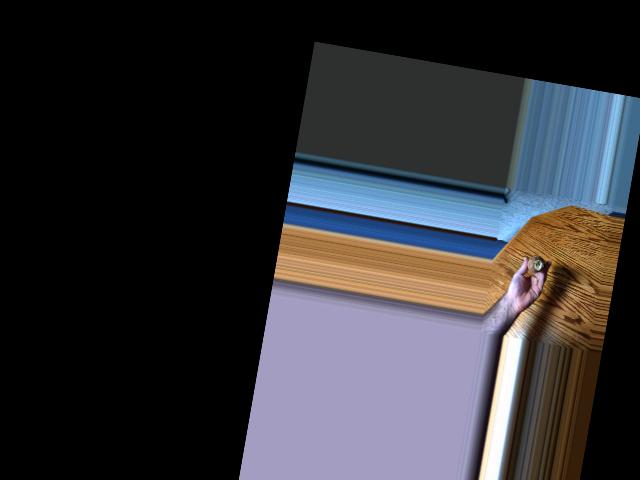sweet_potato: (524, 253, 545, 271)
